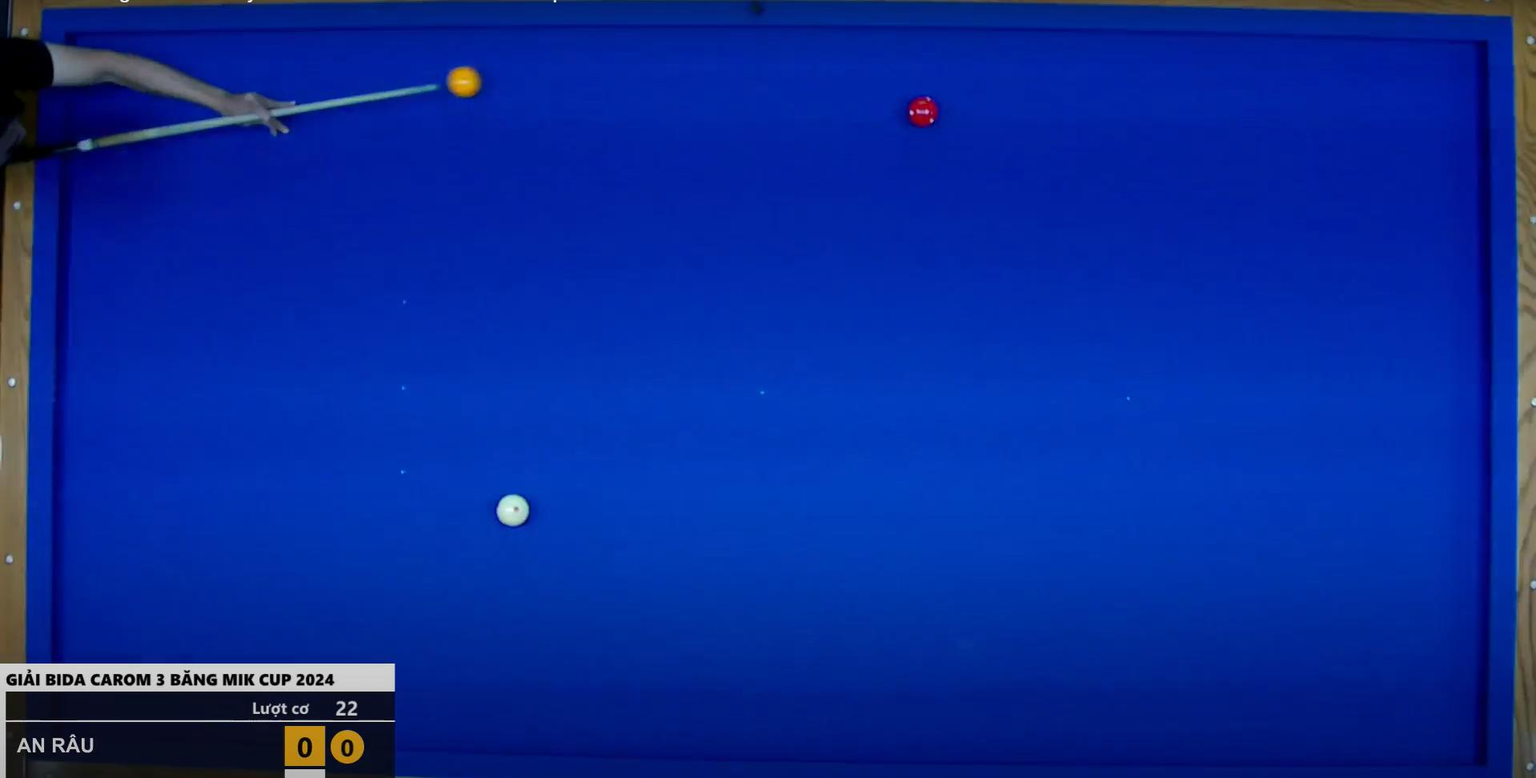red ball: (901, 91, 943, 135)
white ball: (492, 488, 536, 537)
yellow ball: (442, 63, 490, 101)
